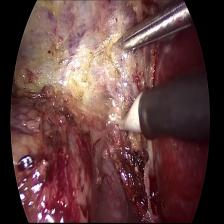Grasper: (116, 0, 190, 65)
Hook: (113, 84, 146, 141)
